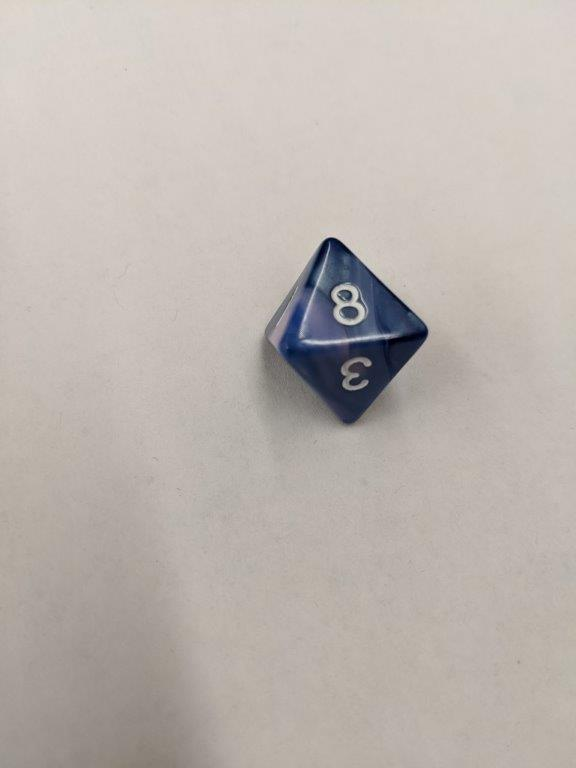d8-8: (262, 238, 434, 427)
